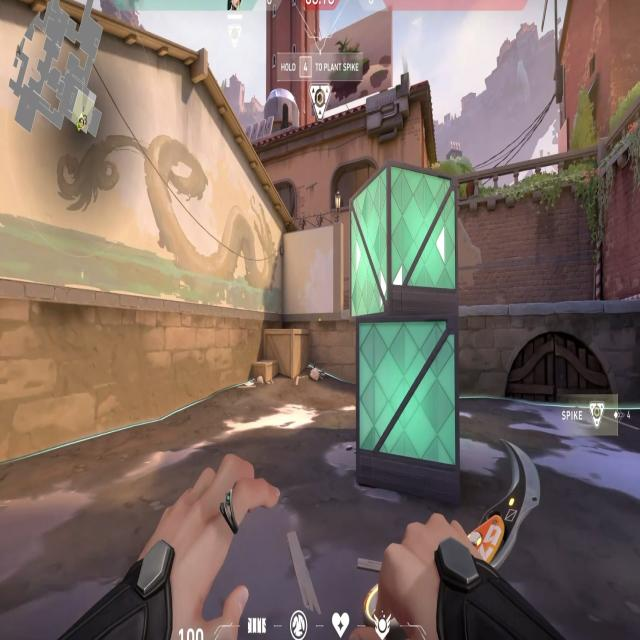B_Site_Box: (346, 155, 468, 519)
Throwables: (329, 154, 378, 213)
